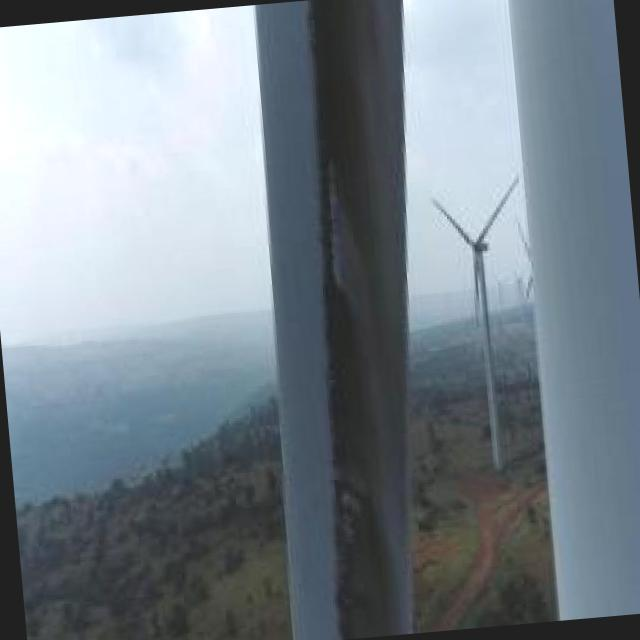Dirt: (308, 1, 416, 640)
